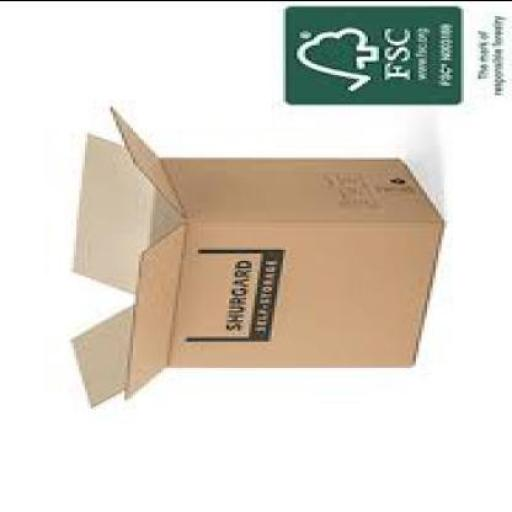cardboard: (70, 108, 444, 409)
